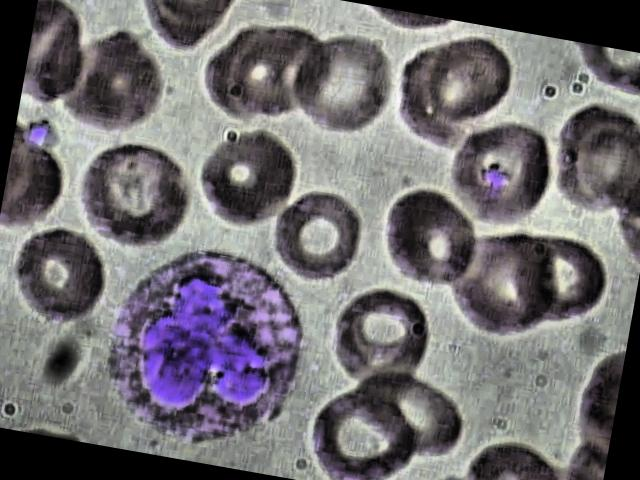Platelets: (21, 114, 65, 156)
RBC: (68, 129, 206, 259), (311, 276, 449, 406), (364, 184, 486, 306), (432, 226, 553, 348), (283, 30, 404, 152), (401, 18, 522, 140), (438, 111, 559, 233), (56, 24, 176, 146), (303, 377, 423, 480), (545, 103, 640, 225), (11, 224, 114, 333), (267, 182, 370, 290), (195, 126, 298, 234)
WBC: (82, 231, 330, 466)
